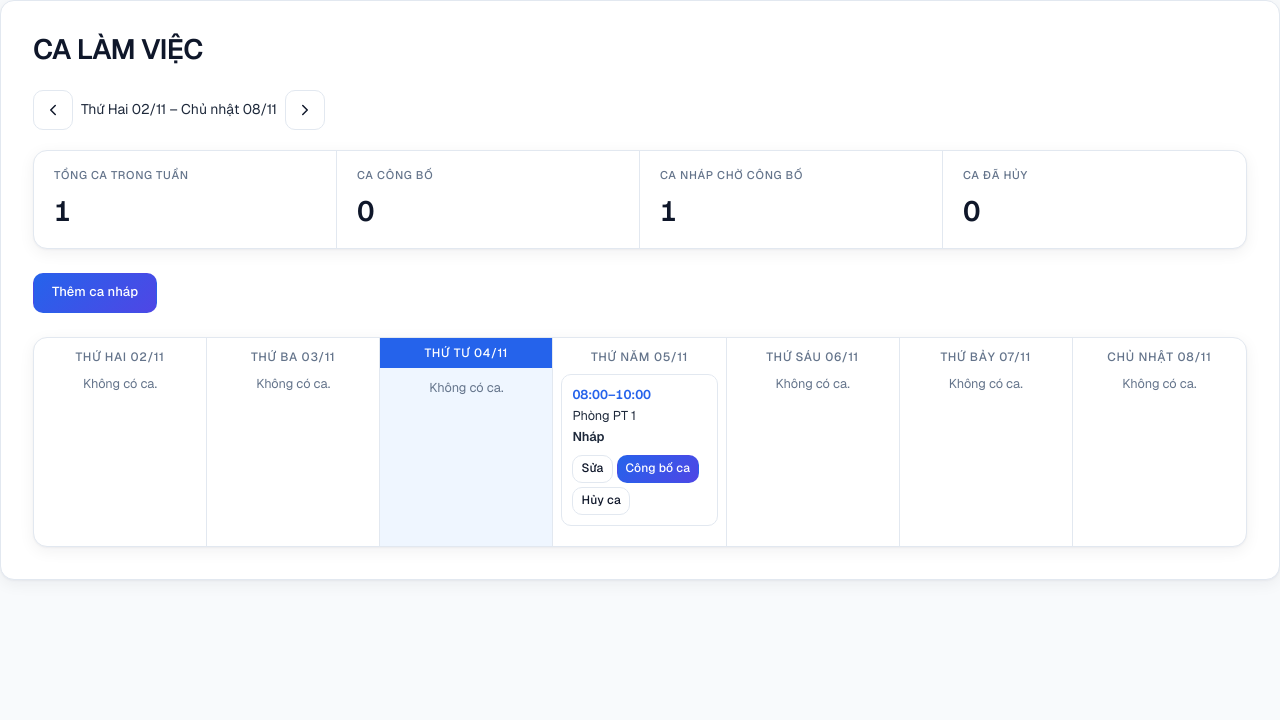
Test: US-25 bước 3: công bố và hủy ca trên trang ca làm việc › US-25-TC03: công bố bị 409 SHIFT_ALREADY_STARTED thì hiện lỗi, ca vẫn hiển thị Nháp
Click the button "Công bố ca".
click(658, 469)  # box [616, 455, 699, 483]
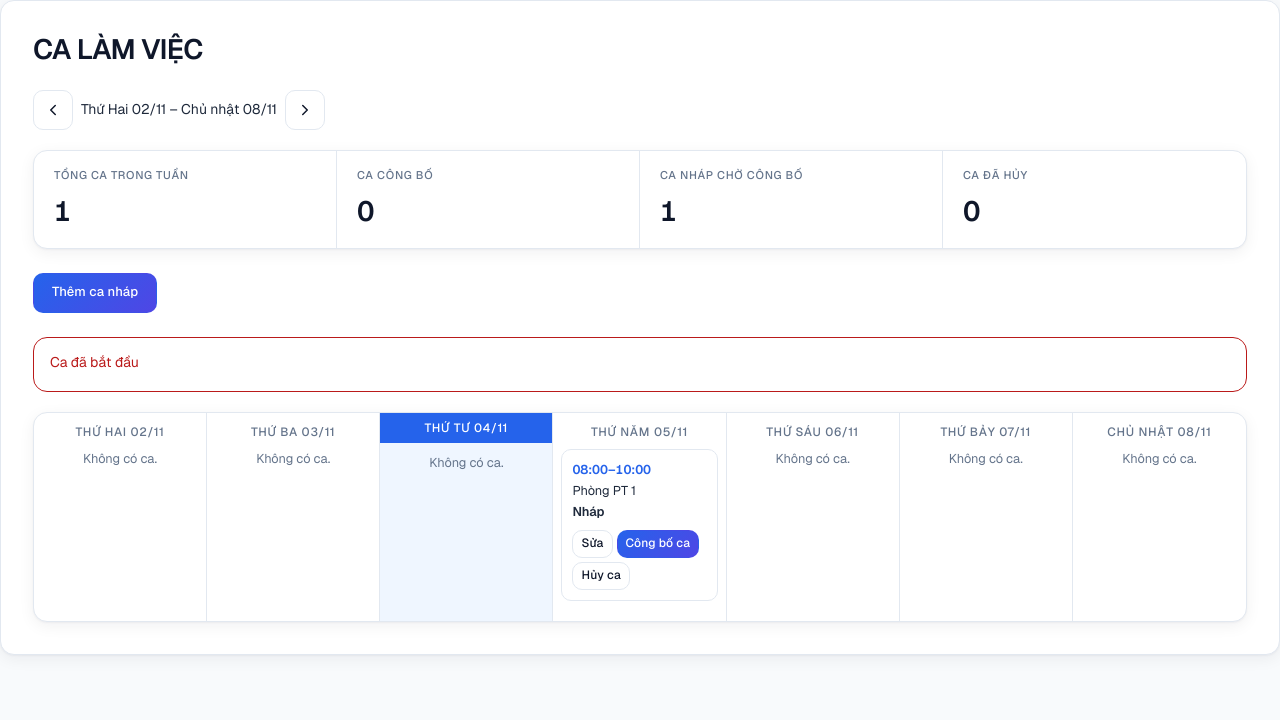
Expected: the text "Nháp" is shown, [572, 503, 604, 520]
Now the message "Ca đã bắt đầu" is shown, box [33, 337, 1247, 392]
